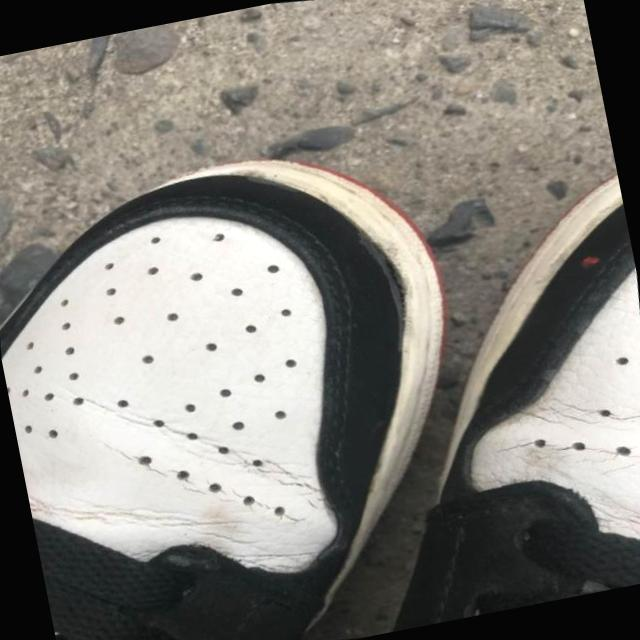nike_original_jordan: (0, 96, 522, 640)
